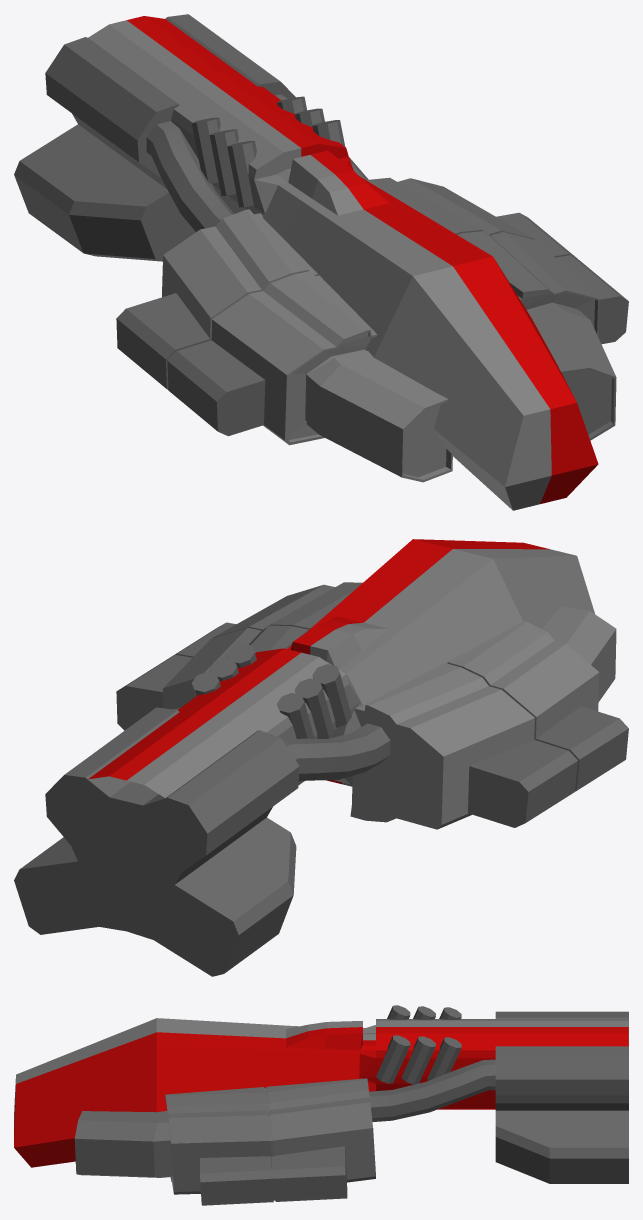
Rendered from fighter_01_eltanin.dae.
The picture shows the model from 3 angles, top to bottom: view 1: azimuth 30°, elevation 25°; view 2: azimuth 150°, elevation 25°; view 3: azimuth 270°, elevation 25°; orthographic projection. The views are drawn at different scales.
Visible parts, largest first — view 1: pCube12, polySurface6, pasted__pCube13, pCube7, polySurface5, pCube13, pCylinder7, pCube11, pasted__pCube12, pCylinder4, pasted__pCylinder2, pasted__pasted__pCylinder2; view 2: polySurface6, pasted__pCube13, pCube12, pasted__pCube12, pCube13, pCube7, polySurface5, pCylinder7, pCube11, pCylinder4, pasted__pCylinder2, pasted__pasted__pCylinder2; view 3: pCube7, polySurface5, pasted__pCube12, pCube11, pCube12, pCylinder6, pasted__pCube13, pCylinder1, pasted__pCylinder1, pasted__pasted__pCylinder1.
Boxes of the visible parts, left/top/right/bottom form: pCube12: left=88, top=20, right=551, bottom=510; polySurface6: left=162, top=209, right=452, bottom=482; pasted__pCube13: left=14, top=37, right=195, bottom=261; pCube7: left=127, top=16, right=598, bottom=503; polySurface5: left=367, top=177, right=616, bottom=440; pCube13: left=116, top=293, right=265, bottom=436; pCylinder7: left=146, top=121, right=233, bottom=231; pCube11: left=496, top=212, right=628, bottom=344; pasted__pCube12: left=165, top=14, right=295, bottom=98; pCylinder4: left=227, top=141, right=256, bottom=207; pasted__pCylinder2: left=209, top=129, right=238, bottom=195; pasted__pasted__pCylinder2: left=191, top=117, right=220, bottom=183; polySurface6: left=350, top=606, right=616, bottom=829; pasted__pCube13: left=126, top=730, right=299, bottom=976; pCube12: left=127, top=549, right=594, bottom=797; pasted__pCube12: left=14, top=707, right=179, bottom=934; pCube13: left=468, top=706, right=628, bottom=827; pCube7: left=88, top=539, right=549, bottom=784; polySurface5: left=162, top=582, right=362, bottom=709; pCylinder7: left=283, top=723, right=390, bottom=781; pCube11: left=116, top=622, right=236, bottom=730; pCylinder4: left=312, top=664, right=351, bottom=727; pasted__pCylinder2: left=295, top=678, right=334, bottom=738; pasted__pasted__pCylinder2: left=277, top=693, right=314, bottom=738; pCube7: left=14, top=1027, right=628, bottom=1167; polySurface5: left=74, top=1078, right=375, bottom=1194; pasted__pCube12: left=495, top=1042, right=628, bottom=1183; pCube11: left=200, top=1146, right=347, bottom=1205; pCube12: left=14, top=1018, right=628, bottom=1126; pCylinder6: left=369, top=1059, right=495, bottom=1121; pasted__pCube13: left=495, top=1011, right=628, bottom=1041; pCylinder1: left=376, top=1035, right=410, bottom=1083; pasted__pCylinder1: left=401, top=1036, right=435, bottom=1084; pasted__pasted__pCylinder1: left=427, top=1037, right=461, bottom=1080.
Bounding box in the file's own units: 6.71 × 2.93 × 12.
